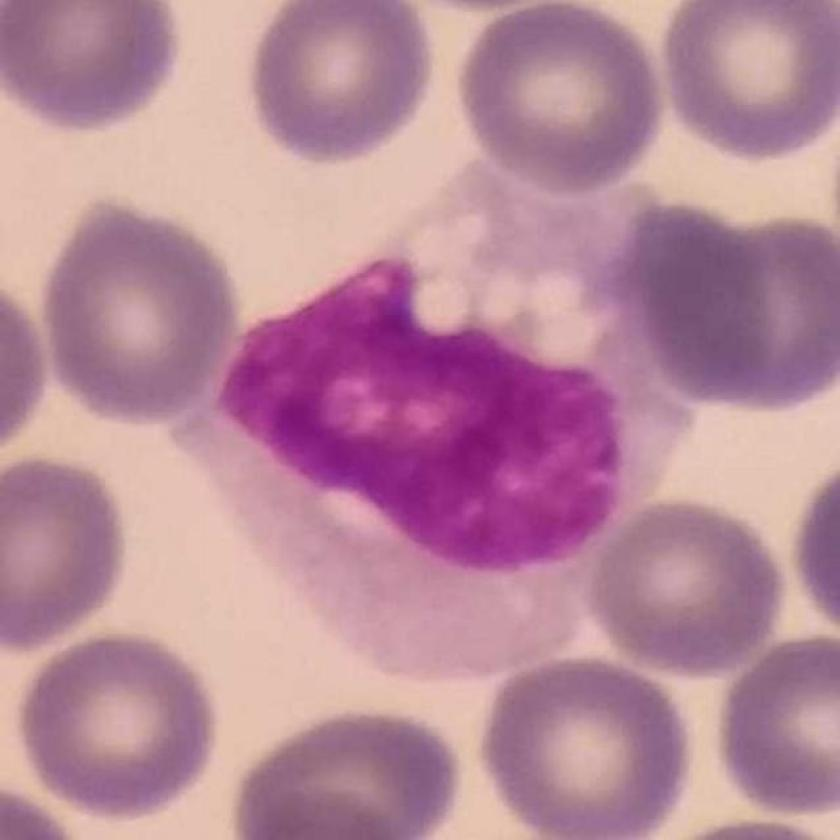monocyte: (177, 145, 707, 685)
